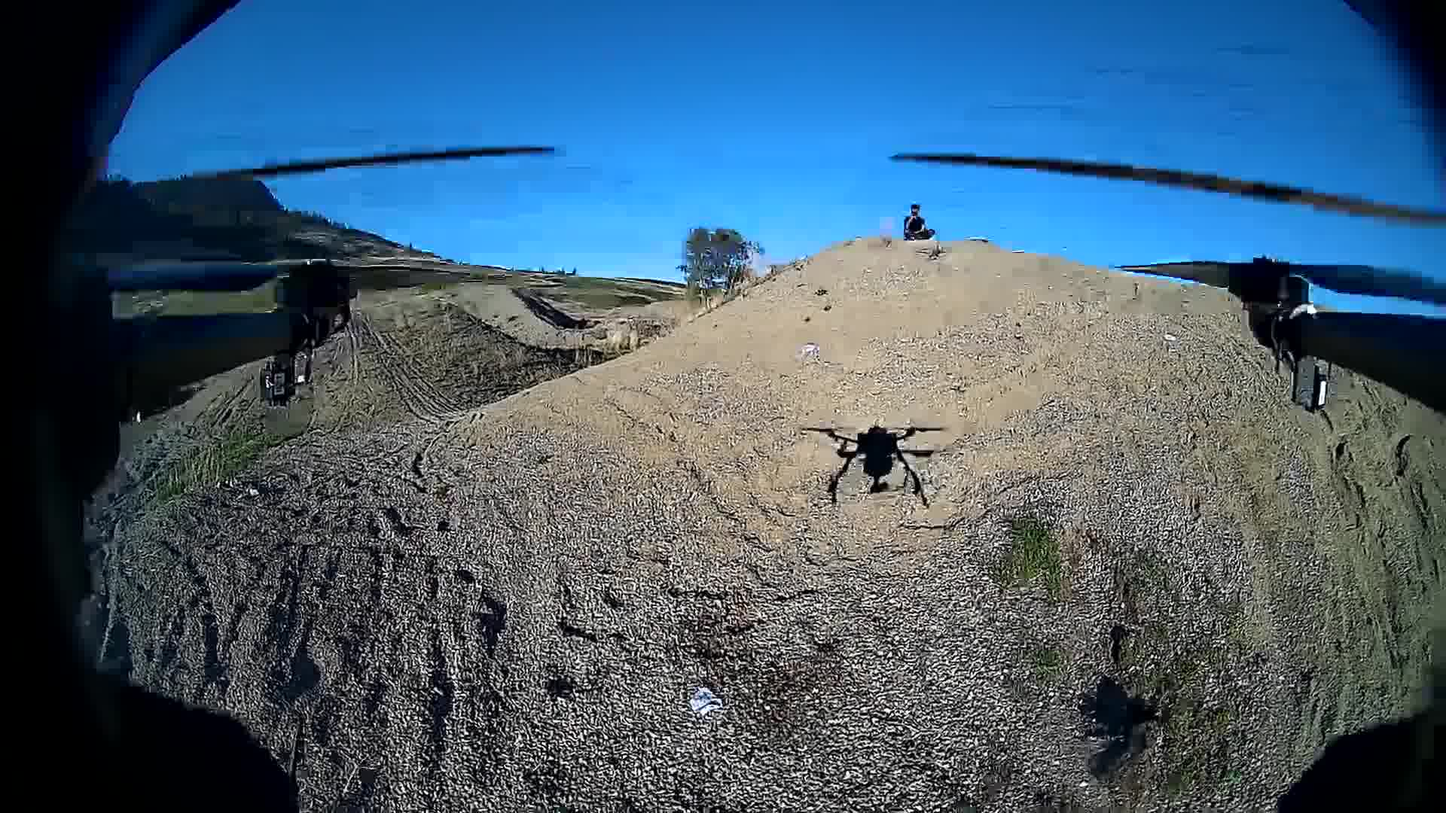Target: (689, 687, 721, 714)
